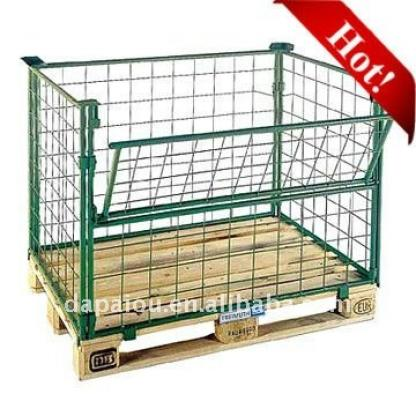BoxFace: (23, 211, 378, 389)
